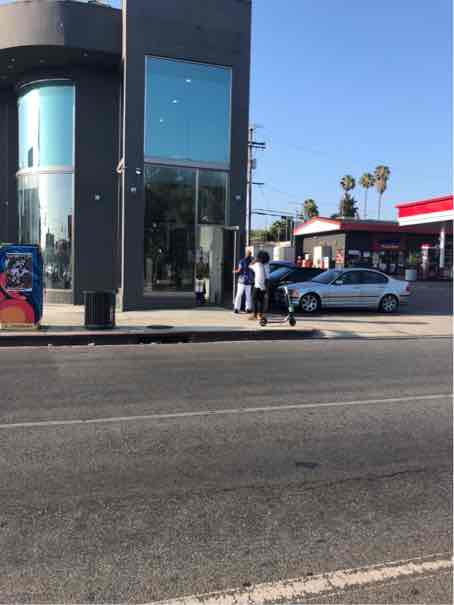scooter: (258, 280, 301, 329)
